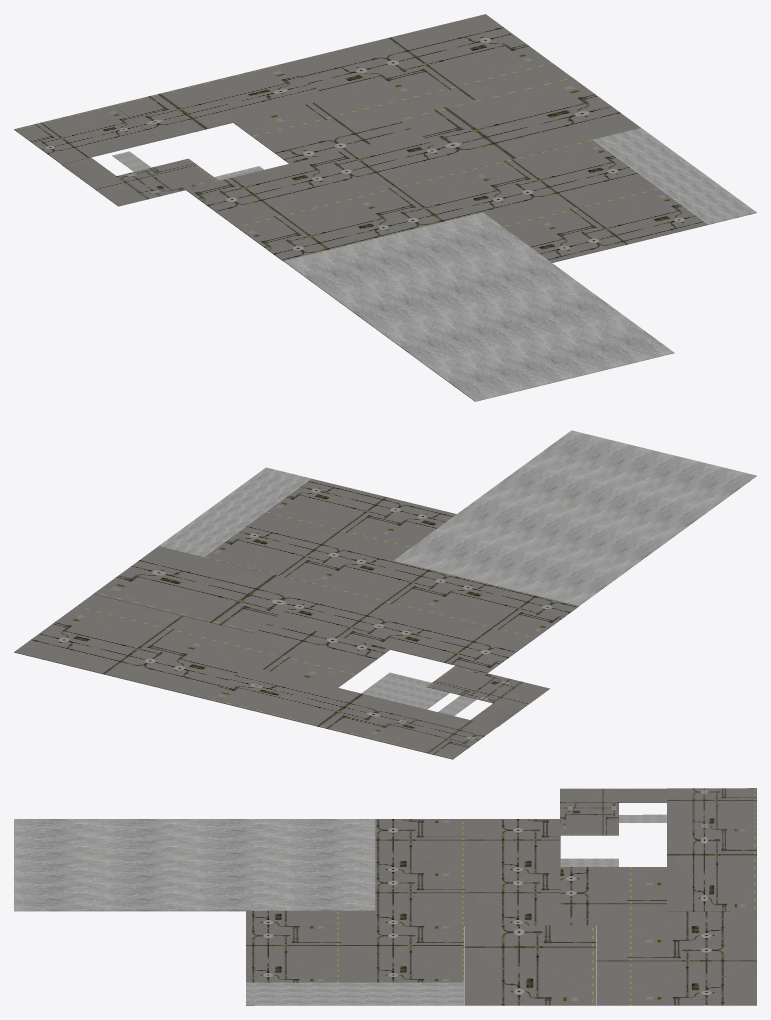
The model's file is Techo.fbx.
The picture shows the model from 3 angles, top to bottom: view 1: azimuth 30°, elevation 25°; view 2: azimuth 150°, elevation 25°; view 3: azimuth 270°, elevation 25°; orthographic projection. The views are drawn at different scales.
Visible parts, largest first — view 1: Plane_057, Plane_058, Plane_041, Plane_056, Plane_039, Plane_054, Plane_035, Plane_011; view 2: Plane_057, Plane_058, Plane_041, Plane_056, Plane_039, Plane_054, Plane_035, Plane_011, Plane_002; view 3: Plane_057, Plane_058, Plane_041, Plane_056, Plane_039, Plane_054, Plane_035, Plane_011, Plane_002, Plane_038.
Part boxes in pixels (x1=…): Plane_057: x1=185, y1=132, x2=707, y2=262; Plane_058: x1=283, y1=212, x2=674, y2=401; Plane_041: x1=233, y1=14, x2=570, y2=163; Plane_056: x1=398, y1=76, x2=640, y2=169; Plane_039: x1=113, y1=64, x2=329, y2=140; Plane_054: x1=592, y1=128, x2=756, y2=224; Plane_035: x1=14, y1=105, x2=160, y2=164; Plane_011: x1=62, y1=157, x2=218, y2=206; Plane_057: x1=204, y1=479, x2=578, y2=673; Plane_058: x1=393, y1=430, x2=756, y2=605; Plane_041: x1=14, y1=594, x2=390, y2=698; Plane_056: x1=93, y1=546, x2=318, y2=633; Plane_039: x1=203, y1=666, x2=404, y2=736; Plane_054: x1=158, y1=467, x2=311, y2=557; Plane_035: x1=361, y1=704, x2=496, y2=759; Plane_011: x1=427, y1=665, x2=549, y2=726; Plane_002: x1=361, y1=672, x2=449, y2=709; Plane_057: x1=246, y1=819, x2=560, y2=982; Plane_058: x1=14, y1=819, x2=375, y2=911; Plane_041: x1=560, y1=867, x2=756, y2=1005; Plane_056: x1=464, y1=925, x2=595, y2=1005; Plane_039: x1=667, y1=833, x2=756, y2=911; Plane_054: x1=246, y1=982, x2=463, y2=1005; Plane_035: x1=667, y1=788, x2=756, y2=833; Plane_011: x1=560, y1=788, x2=666, y2=835; Plane_002: x1=560, y1=858, x2=618, y2=866; Plane_038: x1=619, y1=814, x2=666, y2=822.
Bounding box in the file's own units: 1944 × 101 × 2811.
2 materials, 2 textured.
